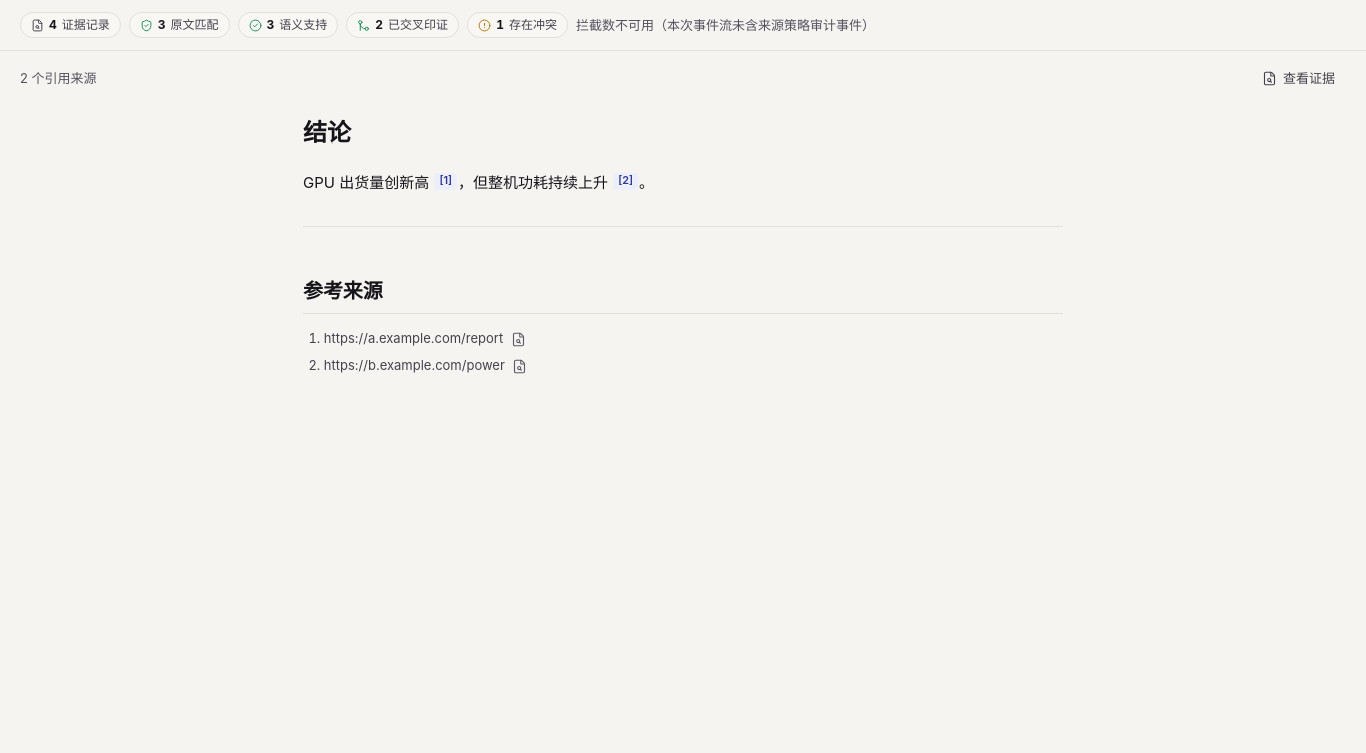
Test: ReportView 可审计证据链 › 旧运行没有上下文时明确降级为已验证摘录
Click the button named "查看引用 1 的证据" at (446, 181), box [434, 173, 457, 190]
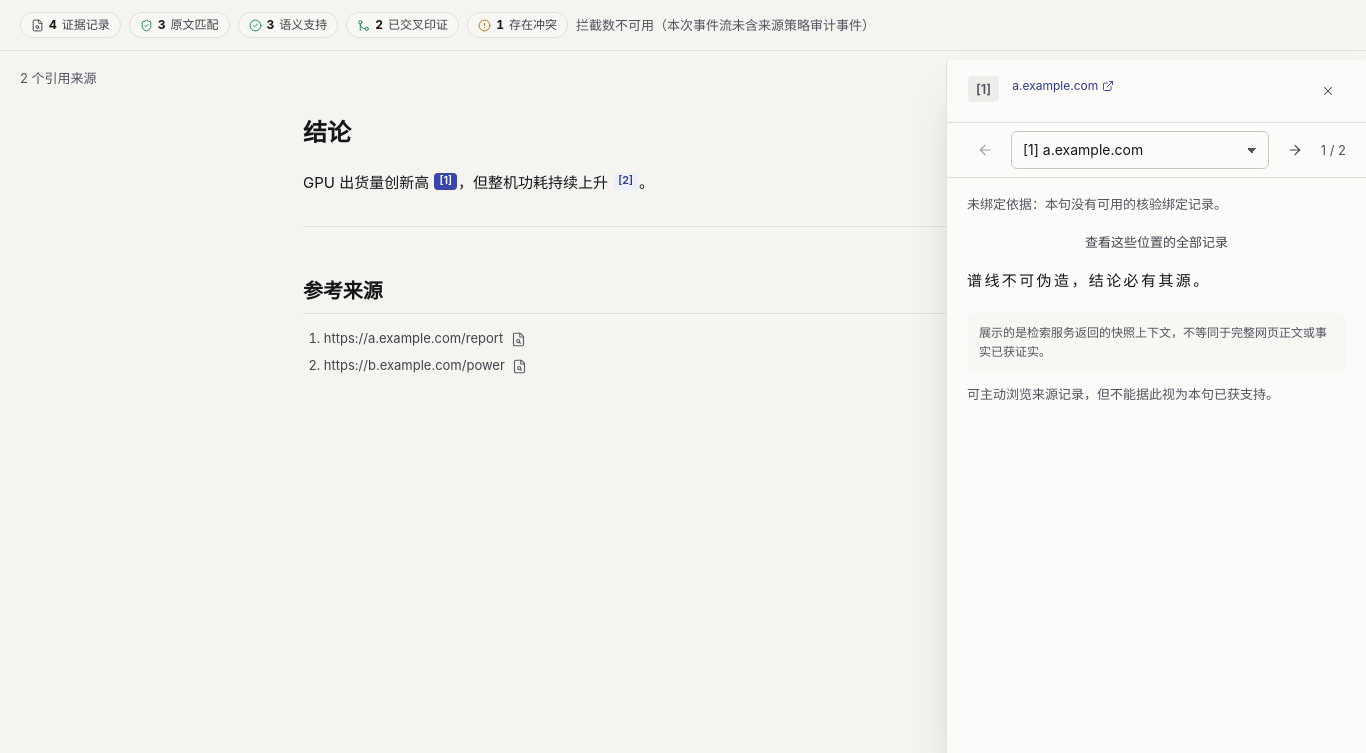
Click the button "查看这些位置的全部记录" at (1156, 242), box [967, 227, 1346, 257]
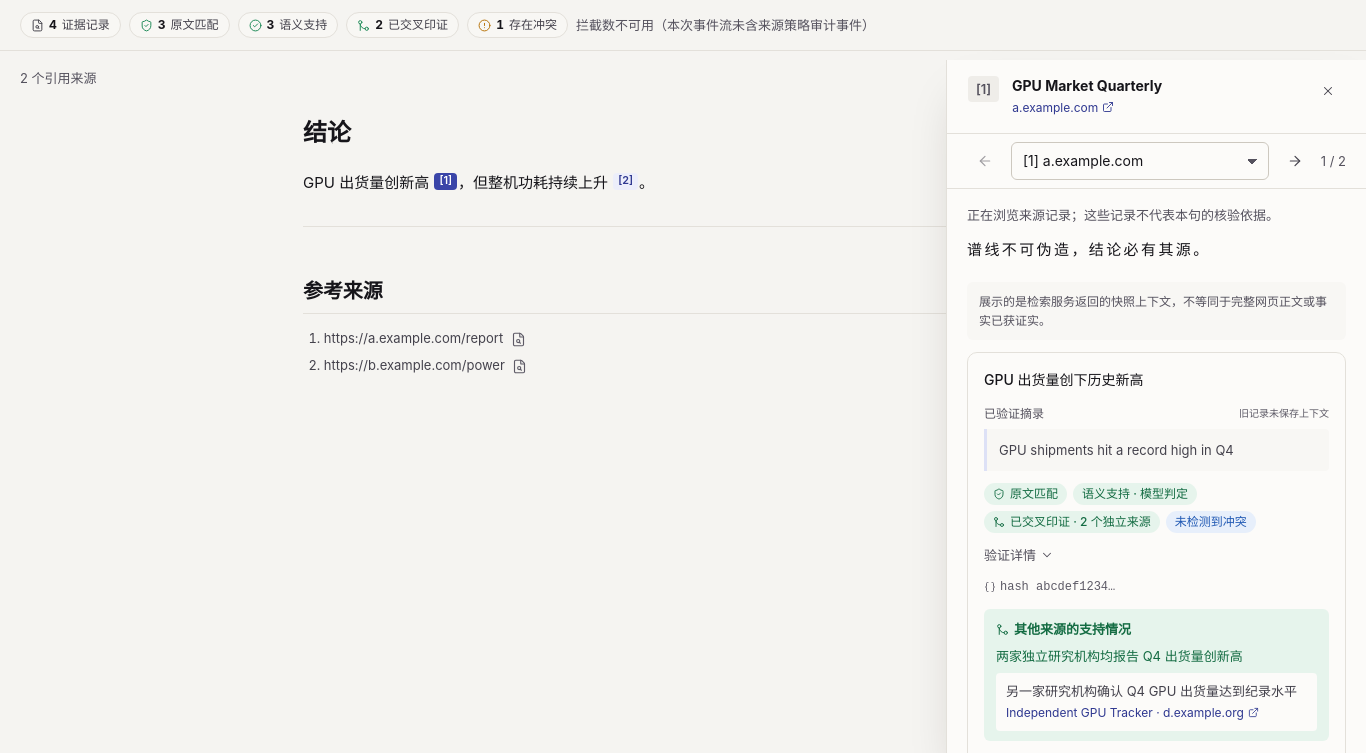
Check: the text "旧记录未保存上下文" is shown, box [1239, 405, 1329, 421]
Check: the text "GPU shipments hit a record high in Q4" is shown, box [984, 429, 1329, 471]
